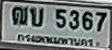letters: (11, 5, 29, 27), (29, 6, 45, 28), (81, 9, 95, 32), (54, 7, 67, 30), (95, 11, 108, 33), (68, 8, 80, 31)
province: (17, 32, 94, 48)
